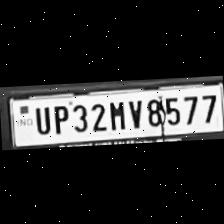2: (86, 98, 106, 132)
3: (68, 100, 88, 132)
5: (160, 92, 180, 125)
7: (196, 89, 218, 123), (179, 92, 199, 124)
8: (144, 93, 164, 127)
M: (104, 96, 126, 130)
P: (48, 100, 70, 134)
U: (30, 102, 50, 134)
V: (124, 94, 144, 130)
